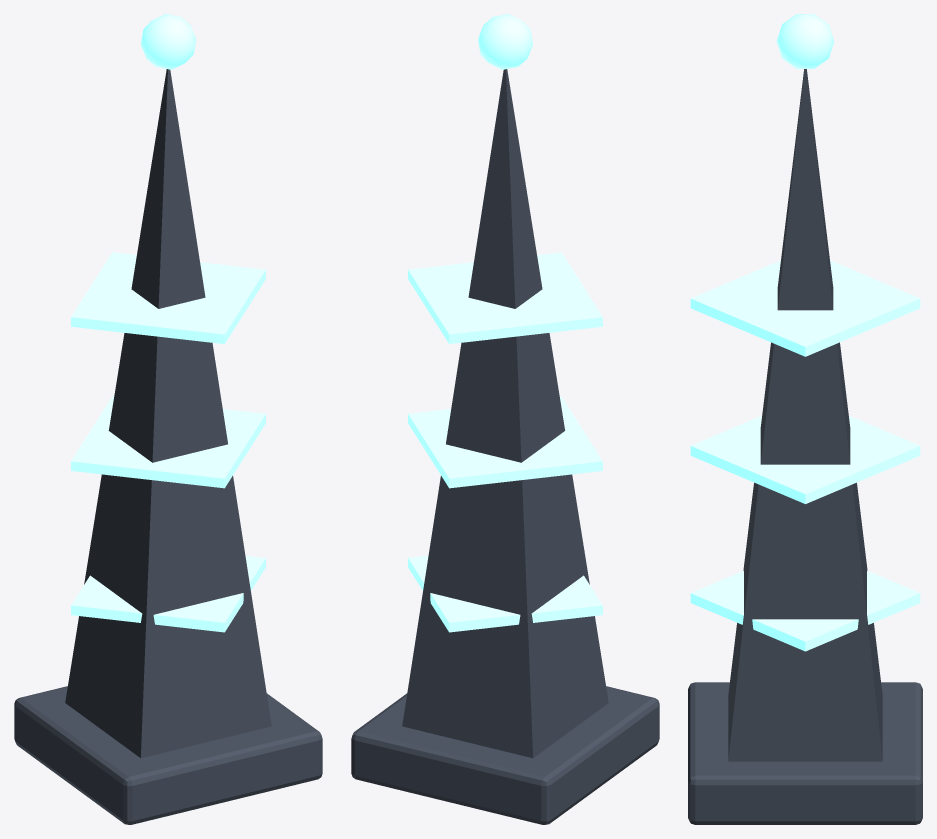
The model's file is obelisk.glb.
3 views of the same model, side by side, from view 1: azimuth 30°, elevation 25°; view 2: azimuth 150°, elevation 25°; view 3: azimuth 270°, elevation 25° (orthographic). The views are drawn at different scales.
Visible parts, largest first — view 1: spire, base, rune.002, rune.001, rune, tip; view 2: spire, base, rune.002, rune.001, rune, tip; view 3: spire, base, rune.002, rune.001, rune, tip.
Part boxes in pixels (x1=…): spire: x1=65, y1=69, x2=271, y2=758; base: x1=14, y1=686, x2=322, y2=824; rune.002: x1=71, y1=252, x2=265, y2=343; rune.001: x1=71, y1=396, x2=265, y2=488; rune: x1=71, y1=555, x2=265, y2=632; tip: x1=141, y1=14, x2=195, y2=69; spire: x1=402, y1=69, x2=608, y2=758; base: x1=351, y1=686, x2=659, y2=824; rune.002: x1=408, y1=252, x2=602, y2=343; rune.001: x1=408, y1=396, x2=602, y2=488; rune: x1=408, y1=555, x2=602, y2=632; tip: x1=478, y1=14, x2=532, y2=69; spire: x1=728, y1=69, x2=882, y2=761; base: x1=688, y1=682, x2=922, y2=824; rune.002: x1=690, y1=260, x2=920, y2=356; rune.001: x1=690, y1=416, x2=920, y2=503; rune: x1=690, y1=570, x2=920, y2=651; tip: x1=776, y1=14, x2=834, y2=68.
Bounding box in the file's own units: 1.3 × 4.66 × 1.3.
